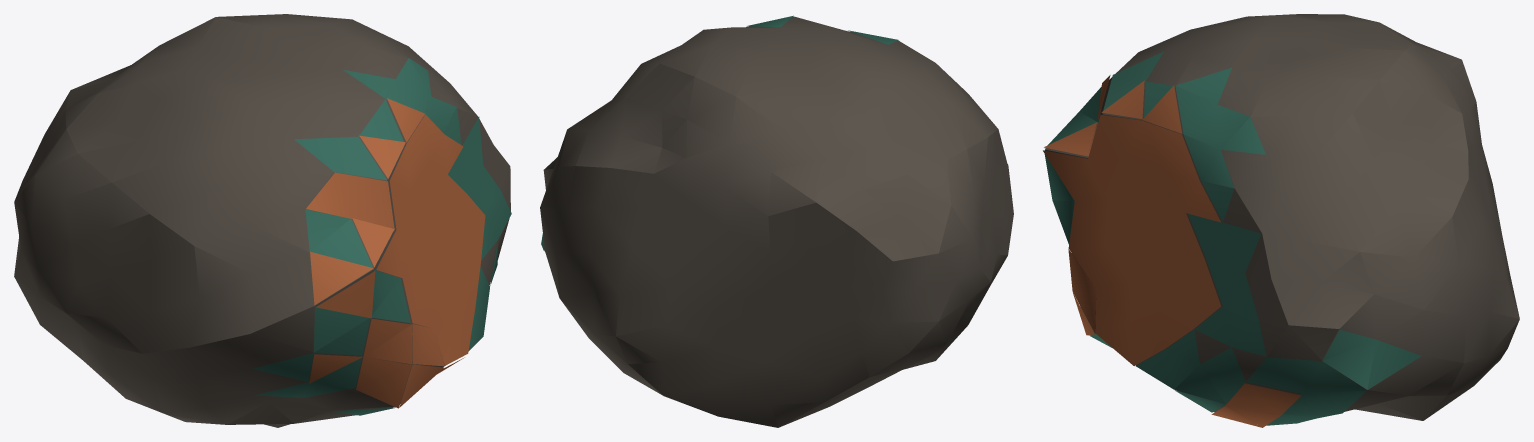
The model's file is ore_copper_web.glb.
The picture shows the model from 3 angles, left to right: view 1: azimuth 30°, elevation 25°; view 2: azimuth 150°, elevation 25°; view 3: azimuth 270°, elevation 25°; orthographic projection. The views are drawn at different scales.
Visible parts, largest first — view 1: copper_matrix, copper_native, copper_malachite; view 2: copper_matrix, copper_malachite; view 3: copper_matrix, copper_native, copper_malachite.
Boxes of the visible parts, x1,y1,x2,y2 form: copper_matrix: [14, 14, 510, 427]; copper_native: [306, 98, 485, 408]; copper_malachite: [253, 58, 511, 415]; copper_matrix: [540, 16, 1013, 427]; copper_malachite: [541, 15, 898, 251]; copper_matrix: [1045, 14, 1519, 420]; copper_native: [1043, 75, 1301, 427]; copper_malachite: [1044, 51, 1421, 425].
Size of the model in its own units: 1.14 by 0.84 by 1.03.
